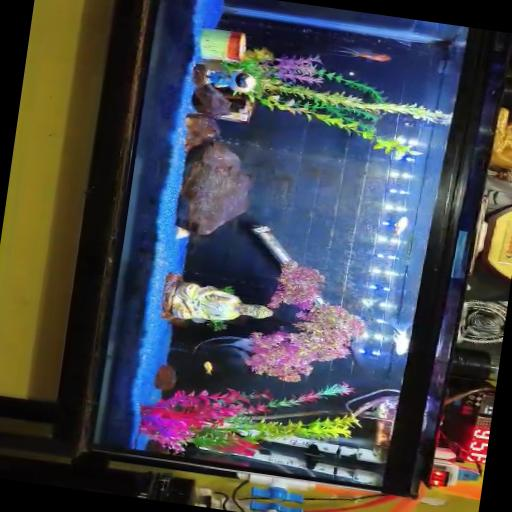Fish: (192, 336, 251, 358), (334, 47, 391, 62), (391, 323, 408, 355), (393, 217, 407, 234), (175, 227, 189, 239), (202, 362, 212, 375), (392, 39, 410, 46)
